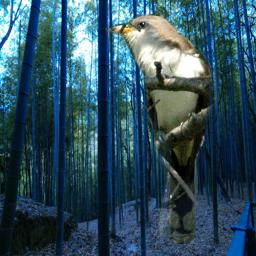Cuckoo: (105, 14, 216, 244)
